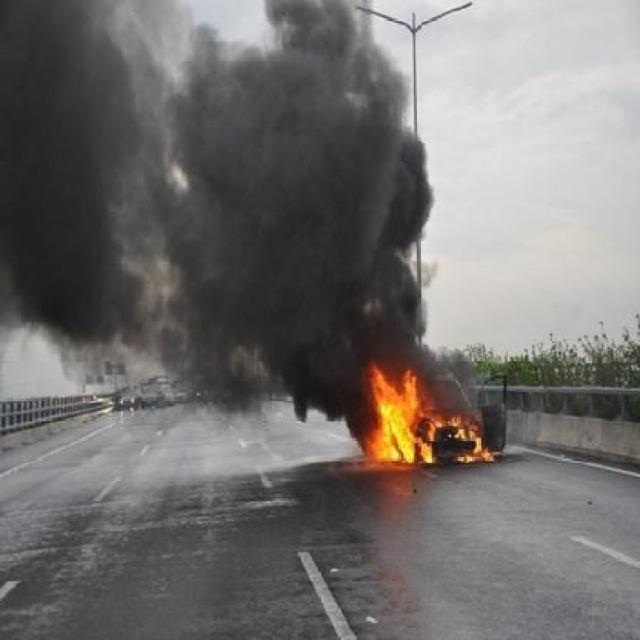Fire: (361, 358, 498, 476)
Smoke: (0, 0, 437, 366)
